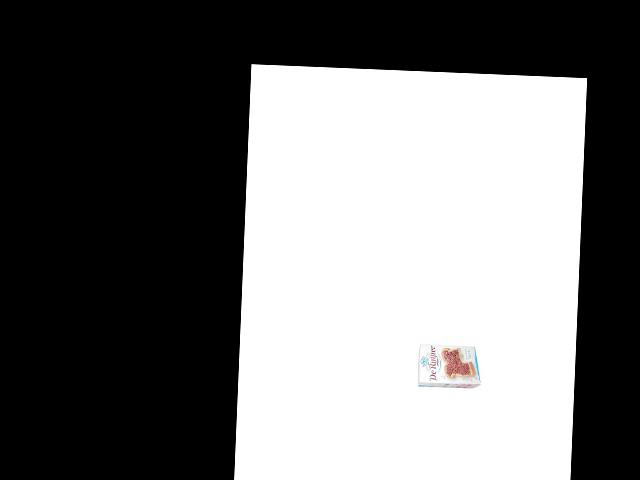chocolate: (413, 338, 480, 394)
